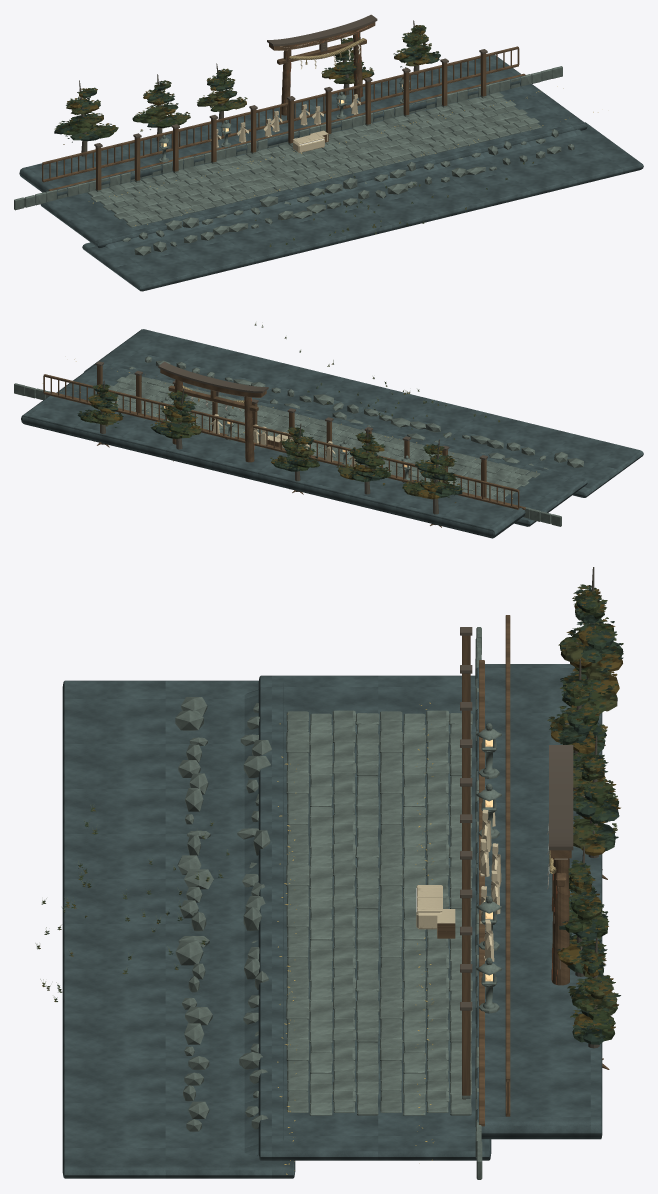
The model's file is night03_procession.glb.
3 renders of one model, top to bottom at view 1: azimuth 30°, elevation 25°; view 2: azimuth 150°, elevation 25°; view 3: azimuth 270°, elevation 25°, orthographic. The views are drawn at different scales.
Visible parts, largest first — view 1: Foreground_damp_stone_earth, Worn_source_flagstones_all_walkable_bounds, Raised_rear_earth_supports_procession, Indigo_stone_earth_below_path, Grounded_irregular_foreground_stone_clusters, Low_rough_stone_boundary, Open_fence_behind_paper_figures, Distant_source_wood_torii, Sloped_soil_join_below_flagstones, Layered_source_cedar_00, Layered_source_cedar_01, Layered_source_cedar_02 (+4 smaller); view 2: Foreground_damp_stone_earth, Raised_rear_earth_supports_procession, Worn_source_flagstones_all_walkable_bounds, Indigo_stone_earth_below_path, Open_fence_behind_paper_figures, Grounded_irregular_foreground_stone_clusters, Distant_source_wood_torii, Layered_source_cedar_00, Layered_source_cedar_01, Layered_source_cedar_03, Layered_source_cedar_02, Layered_source_cedar_04 (+2 smaller); view 3: Foreground_damp_stone_earth, Worn_source_flagstones_all_walkable_bounds, Indigo_stone_earth_below_path, Raised_rear_earth_supports_procession, Grounded_irregular_foreground_stone_clusters, Distant_source_wood_torii, Layered_source_cedar_00, Sloped_soil_join_below_flagstones, Layered_source_cedar_02, Layered_source_cedar_04, Layered_source_cedar_03, Layered_source_cedar_01 (+5 smaller).
Part boxes in pixels (box(x1,y1,x2,y2)): Foreground_damp_stone_earth: box(82, 122, 643, 291); Worn_source_flagstones_all_walkable_bounds: box(88, 92, 542, 227); Raised_rear_earth_supports_procession: box(19, 55, 523, 198); Indigo_stone_earth_below_path: box(40, 84, 587, 247); Grounded_irregular_foreground_stone_clusters: box(122, 129, 574, 255); Low_rough_stone_boundary: box(14, 66, 562, 210); Open_fence_behind_paper_figures: box(42, 46, 519, 182); Distant_source_wood_torii: box(267, 14, 377, 115); Sloped_soil_join_below_flagstones: box(103, 121, 582, 248); Layered_source_cedar_00: box(54, 80, 118, 156); Layered_source_cedar_01: box(132, 74, 190, 141); Layered_source_cedar_02: box(197, 63, 247, 122); Foreground_damp_stone_earth: box(84, 329, 643, 497); Raised_rear_earth_supports_procession: box(21, 395, 525, 538); Worn_source_flagstones_all_walkable_bounds: box(95, 373, 540, 501); Indigo_stone_earth_below_path: box(56, 360, 587, 526); Open_fence_behind_paper_figures: box(43, 374, 519, 509); Grounded_irregular_foreground_stone_clusters: box(129, 356, 583, 469); Distant_source_wood_torii: box(158, 361, 268, 462); Layered_source_cedar_00: box(402, 439, 463, 527); Layered_source_cedar_01: box(336, 428, 391, 494); Layered_source_cedar_03: box(150, 388, 202, 461); Layered_source_cedar_02: box(270, 423, 319, 494); Layered_source_cedar_04: box(77, 380, 123, 447); Foreground_damp_stone_earth: box(62, 680, 295, 1178); Worn_source_flagstones_all_walkable_bounds: box(286, 710, 472, 1115); Indigo_stone_earth_below_path: box(258, 675, 491, 1160); Raised_rear_earth_supports_procession: box(476, 664, 602, 1139); Grounded_irregular_foreground_stone_clusters: box(175, 697, 271, 1131); Distant_source_wood_torii: box(547, 745, 573, 985); Layered_source_cedar_00: box(558, 567, 623, 745); Sloped_soil_join_below_flagstones: box(244, 682, 283, 1155); Layered_source_cedar_02: box(573, 735, 620, 879); Layered_source_cedar_04: box(567, 937, 620, 1069); Layered_source_cedar_03: box(557, 846, 609, 976); Layered_source_cedar_01: box(547, 659, 607, 793).
Size of the model in its own units: 38.03 by 6.43 by 17.75.
23 materials, 12 textured.
